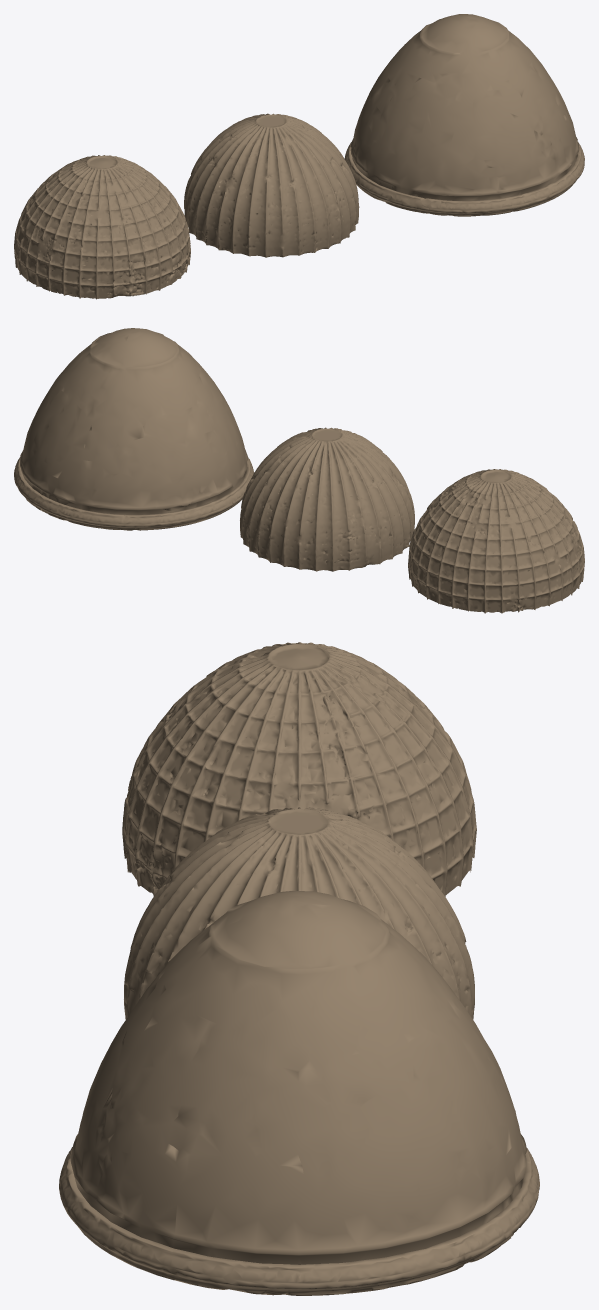
File: DesertFortress_Domes.fbx
3 renders of one model, top to bottom at view 1: azimuth 30°, elevation 25°; view 2: azimuth 150°, elevation 25°; view 3: azimuth 270°, elevation 25°, orthographic. The views are drawn at different scales.
Visible parts, largest first — view 1: DesertTemple_Fortress_Dome_01, DesertTemple_Fortress_Dome_02_Low, DesertTemple_Fortress_Dome_03, DesertTemple_Fortress_Dome_Ring_02; view 2: DesertTemple_Fortress_Dome_01, DesertTemple_Fortress_Dome_02_Low, DesertTemple_Fortress_Dome_03, DesertTemple_Fortress_Dome_Ring_02; view 3: DesertTemple_Fortress_Dome_01, DesertTemple_Fortress_Dome_02_Low, DesertTemple_Fortress_Dome_03, DesertTemple_Fortress_Dome_Ring_02.
Boxes of the visible parts, x1=… form: DesertTemple_Fortress_Dome_01: x1=350, y1=14, x2=579, y2=200; DesertTemple_Fortress_Dome_02_Low: x1=14, y1=155, x2=190, y2=299; DesertTemple_Fortress_Dome_03: x1=184, y1=113, x2=359, y2=257; DesertTemple_Fortress_Dome_Ring_02: x1=344, y1=141, x2=584, y2=216; DesertTemple_Fortress_Dome_01: x1=20, y1=328, x2=248, y2=514; DesertTemple_Fortress_Dome_02_Low: x1=408, y1=469, x2=584, y2=613; DesertTemple_Fortress_Dome_03: x1=240, y1=427, x2=414, y2=571; DesertTemple_Fortress_Dome_Ring_02: x1=14, y1=457, x2=254, y2=530; DesertTemple_Fortress_Dome_01: x1=70, y1=891, x2=526, y2=1264; DesertTemple_Fortress_Dome_02_Low: x1=122, y1=642, x2=476, y2=896; DesertTemple_Fortress_Dome_03: x1=124, y1=807, x2=474, y2=1019; DesertTemple_Fortress_Dome_Ring_02: x1=59, y1=1147, x2=539, y2=1295.
Size of the model in its own units: 2249 by 616 by 863.
